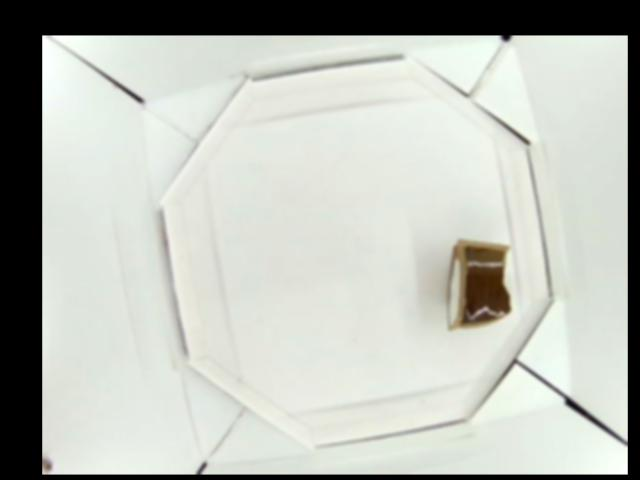China: (444, 237, 516, 327)
